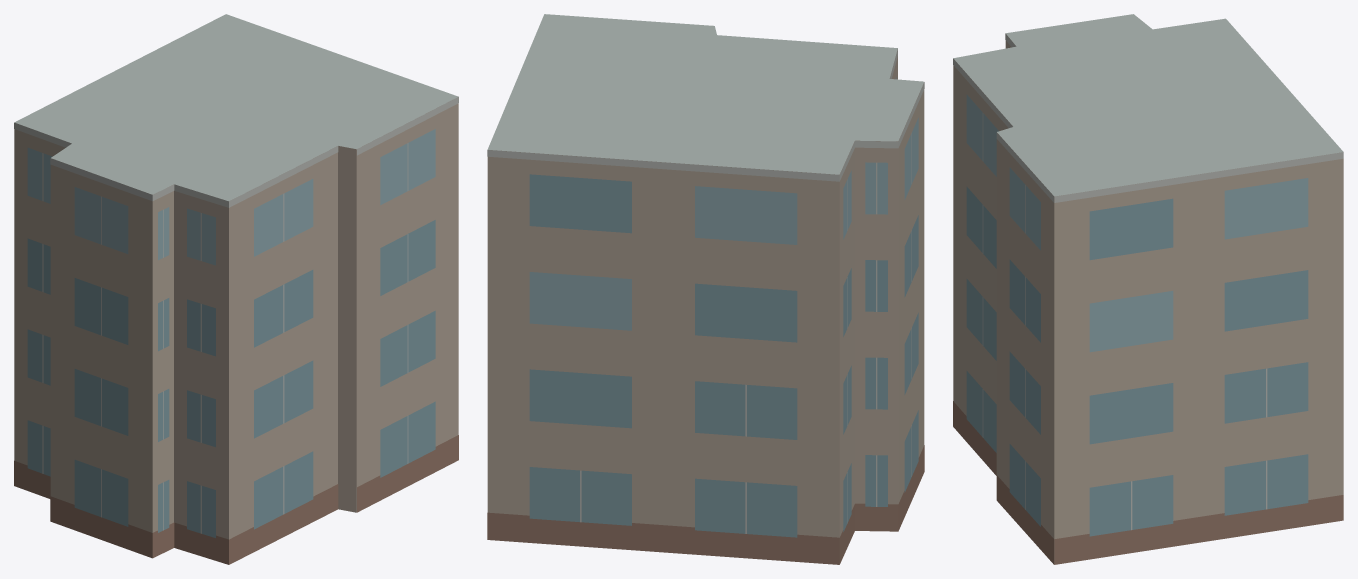
File: survey-upis-32866422.glb
3 views of the same model, side by side, from view 1: azimuth 30°, elevation 25°; view 2: azimuth 150°, elevation 25°; view 3: azimuth 270°, elevation 25° (orthographic). The views are drawn at different scales.
Parts seen in each view (by area): view 1: survey-upis-32866422.tmp; view 2: survey-upis-32866422.tmp; view 3: survey-upis-32866422.tmp.
Boxes of the visible parts, left/top/right/bottom form: survey-upis-32866422.tmp: left=14, top=14, right=458, bottom=564; survey-upis-32866422.tmp: left=487, top=14, right=924, bottom=564; survey-upis-32866422.tmp: left=953, top=14, right=1343, bottom=564.
Size of the model in its own units: 14.51 by 13.65 by 13.13.
